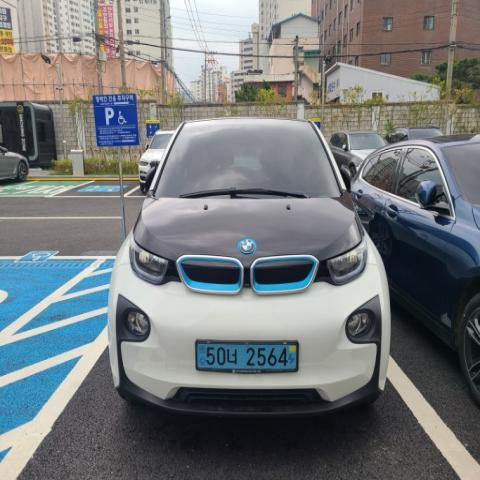LP: (186, 327, 306, 388)
